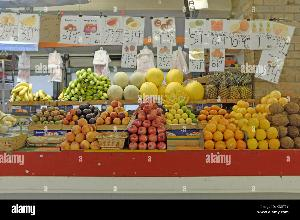banana: (63, 70, 111, 102), (8, 75, 54, 105)
lime: (166, 98, 199, 126)
melon: (142, 64, 206, 102), (102, 72, 142, 100)
orange: (233, 99, 279, 147), (198, 107, 246, 151)
peach: (62, 120, 100, 152), (96, 99, 132, 124)
pineapple: (206, 64, 254, 100)
pomegranate: (126, 102, 172, 152)
